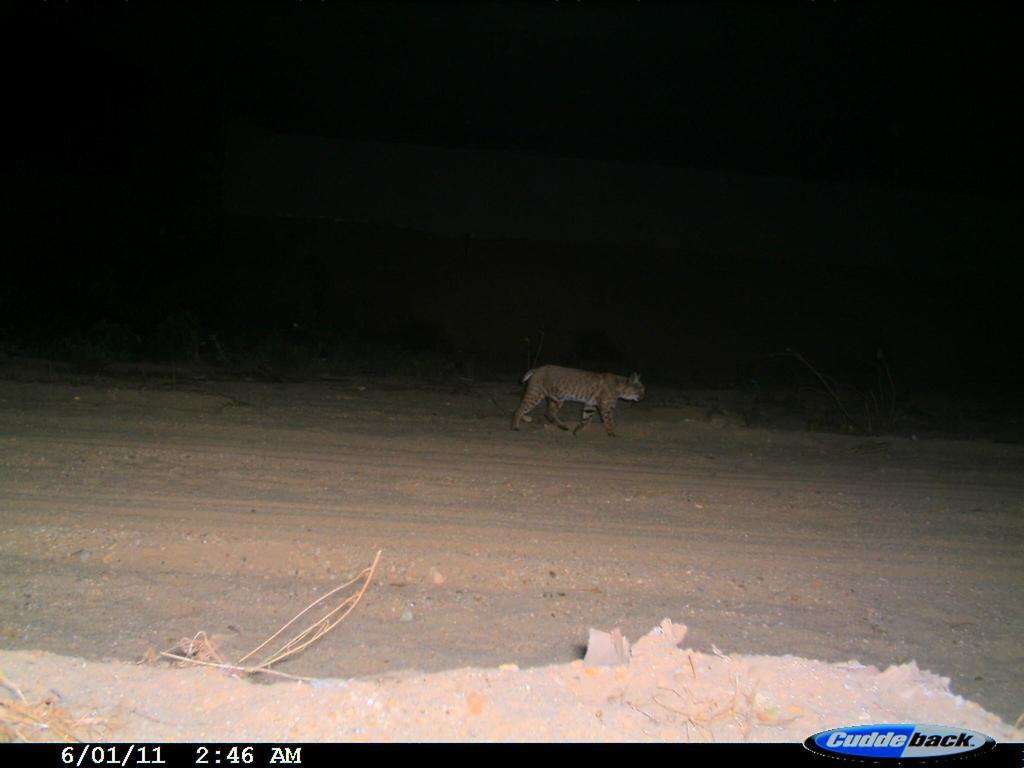bobcat: (510, 350, 652, 449)
